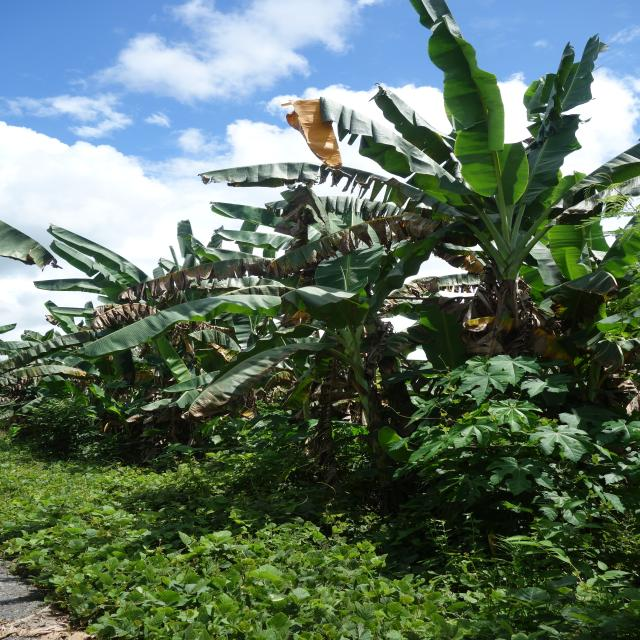Banana-plant: (341, 332, 423, 572), (471, 229, 526, 498)
